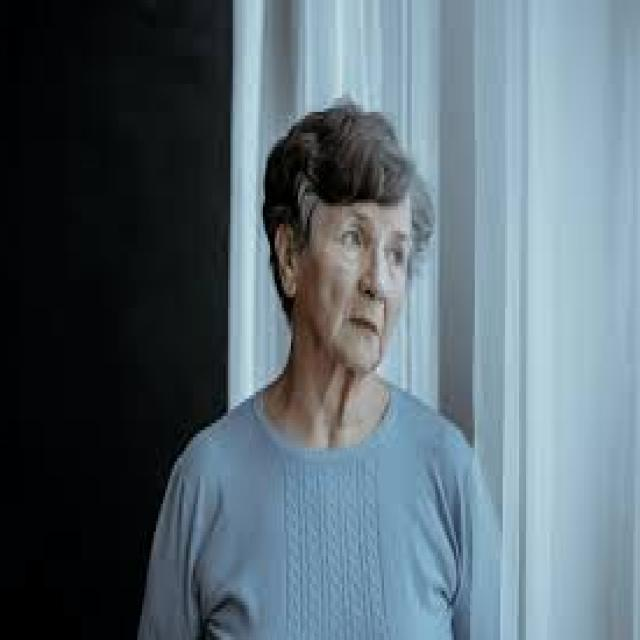normal_face: (292, 138, 423, 380)
